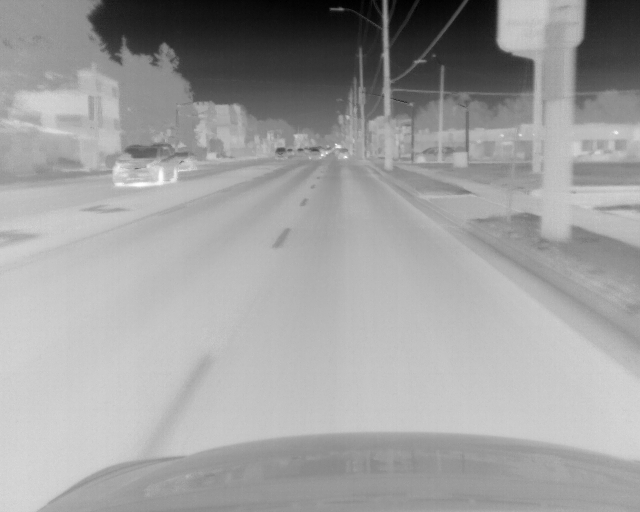car: (113, 143, 179, 186), (412, 145, 459, 164), (174, 151, 199, 174), (305, 147, 319, 161), (335, 147, 350, 160), (274, 146, 286, 160), (319, 147, 327, 160), (286, 147, 294, 157), (296, 146, 304, 156)
